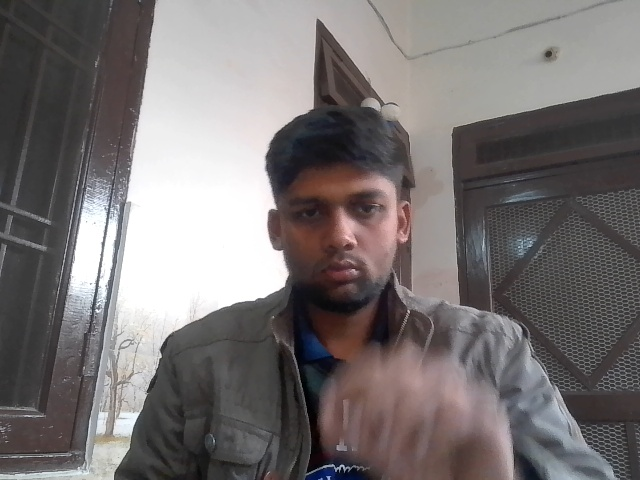Hello: (295, 309, 535, 480)
